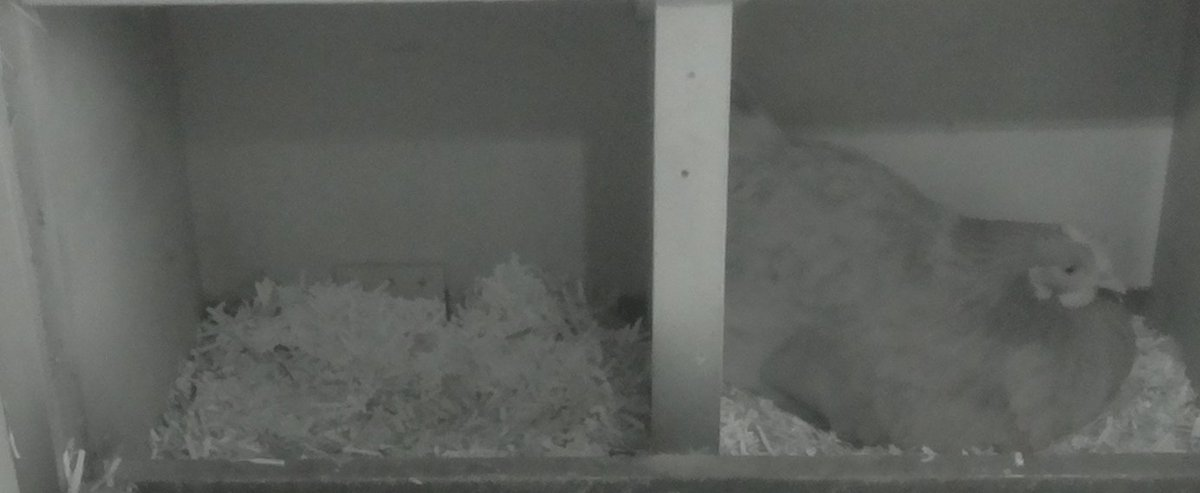hen: (732, 114, 1143, 459)
